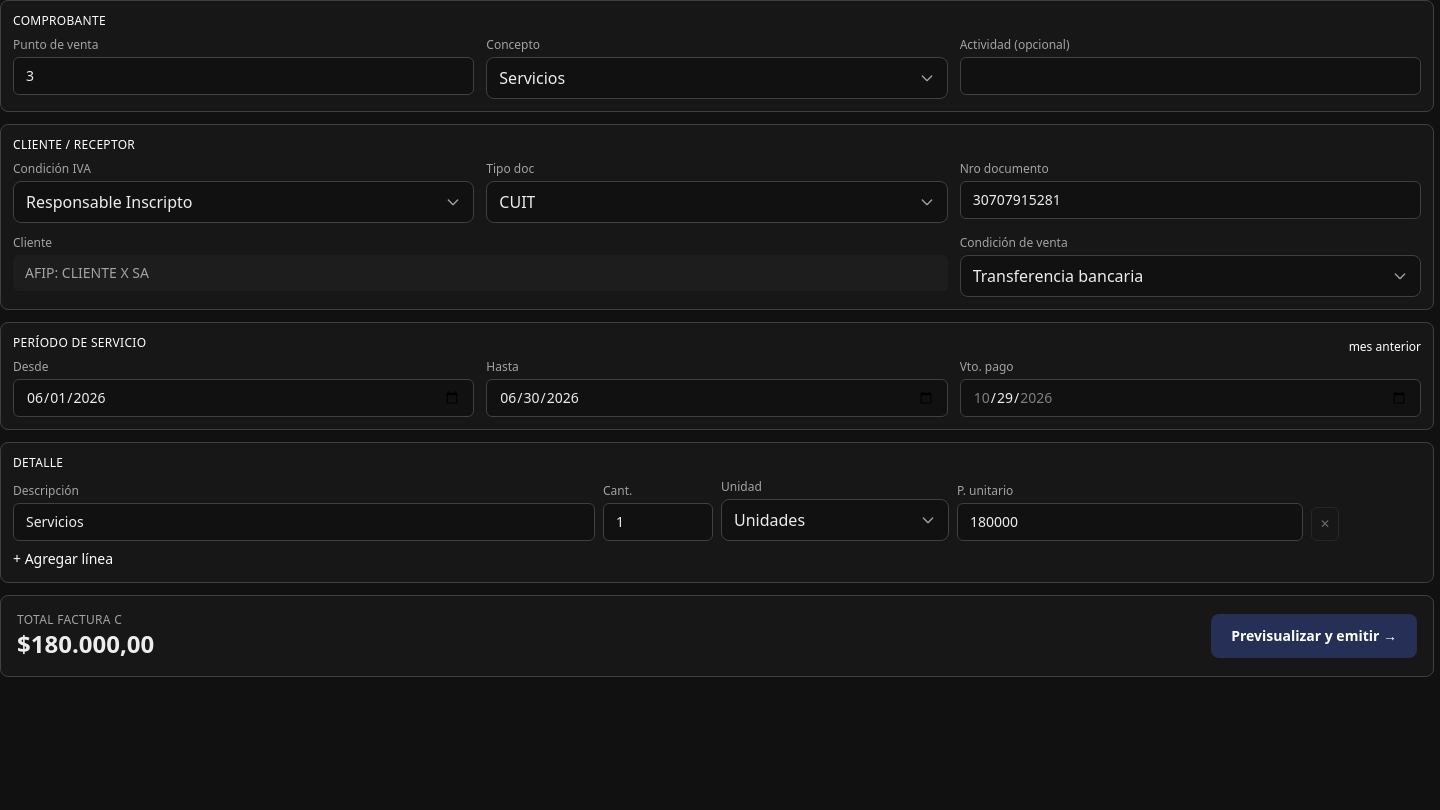
Scenario: EmissionForm › recalcula el total al cambiar el precio unitario
This screenshot has width=1440, height=810.
Replace the text in the number field with test id "linea-precio-0" with "200000" at x=1130, y=522, box [957, 503, 1303, 541]
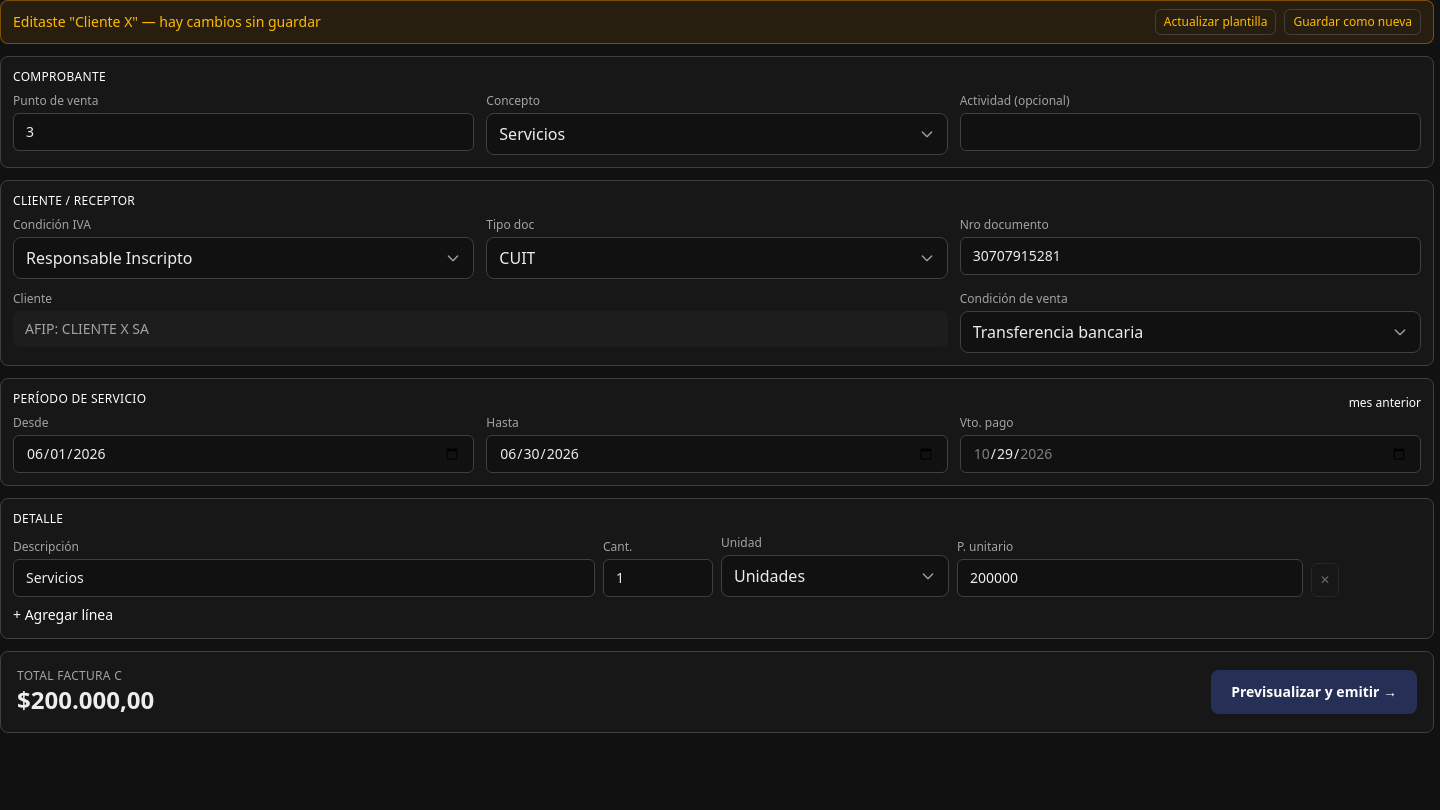
Check: the text with test id "form-total" shows "200.000,00", box [31, 683, 154, 716]
